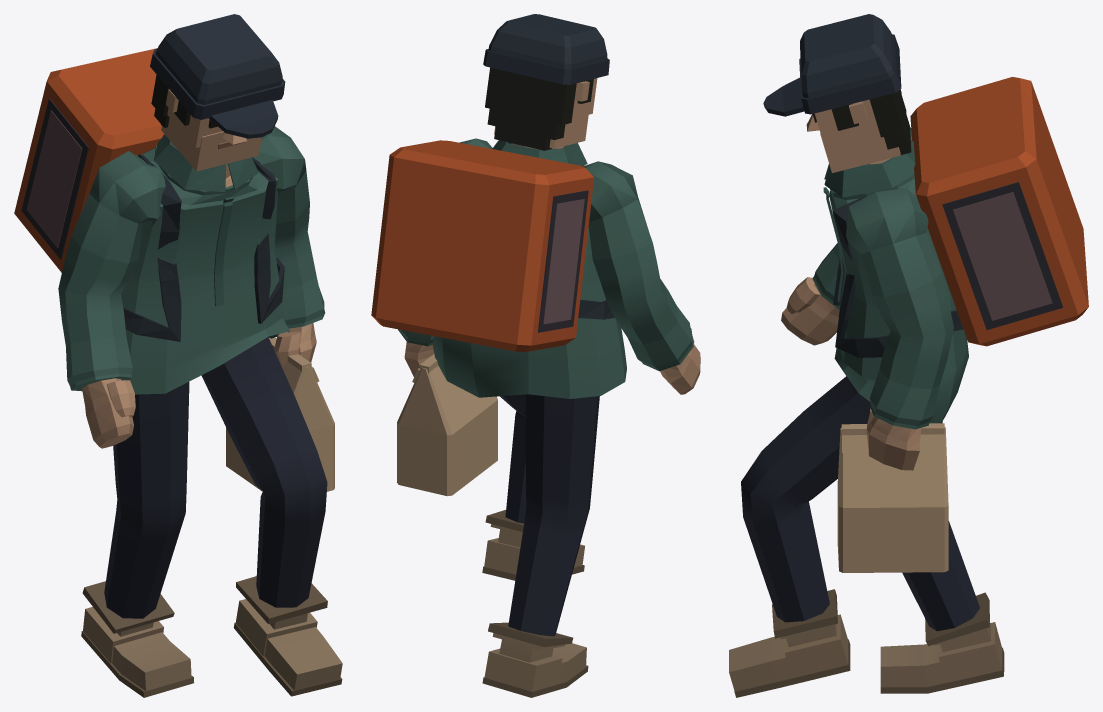
The model's file is delivery-courier-327e30__walk7.glb.
3 renders of one model, left to right at view 1: azimuth 30°, elevation 25°; view 2: azimuth 150°, elevation 25°; view 3: azimuth 270°, elevation 25°, orthographic. The views are drawn at different scales.
Parts seen in each view (by area): view 1: delivery-courier-327e30__walk7; view 2: delivery-courier-327e30__walk7; view 3: delivery-courier-327e30__walk7.
Boxes of the visible parts, x1=… form: delivery-courier-327e30__walk7: x1=14, y1=14, x2=342, y2=697; delivery-courier-327e30__walk7: x1=371, y1=14, x2=700, y2=697; delivery-courier-327e30__walk7: x1=729, y1=14, x2=1088, y2=697.
Size of the model in its own units: 0.7731 by 1.76 by 0.8538.
